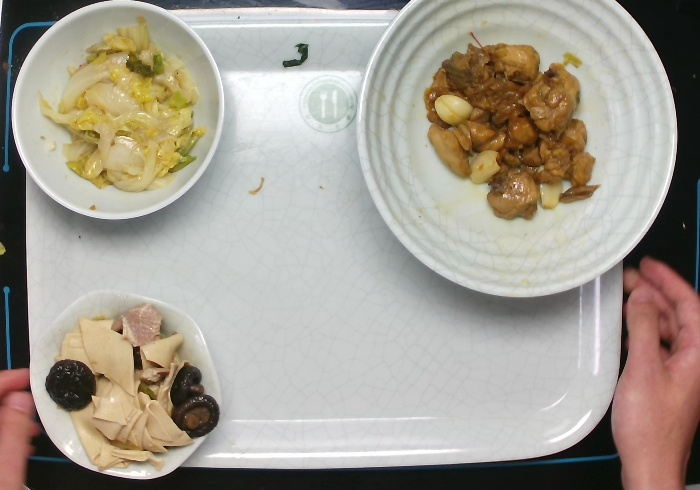JYsf-Da_Tang_Wan: (355, 1, 678, 300)
JYsf-Fan_Wan: (10, 1, 225, 220)
WCQzf-Hua_Duo_Wan: (28, 288, 222, 481)
